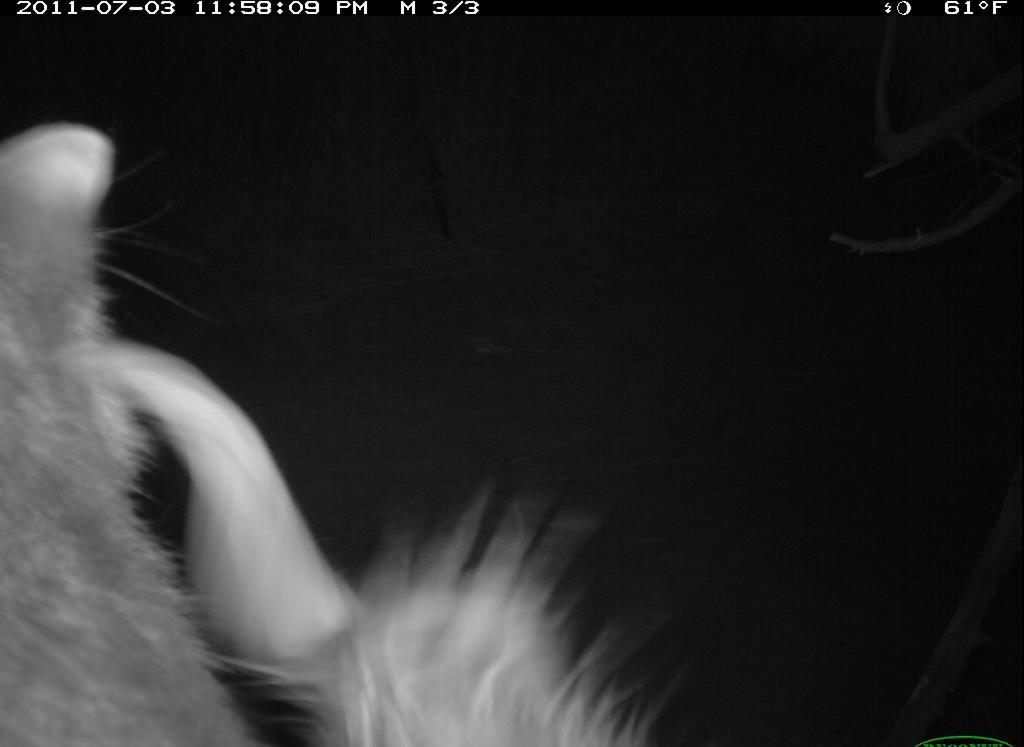raccoon: (4, 113, 670, 747)
